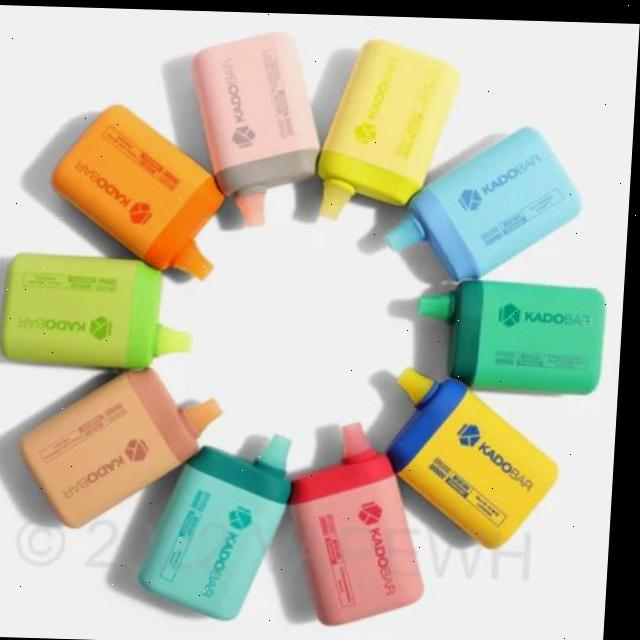vape: (22, 364, 231, 531), (386, 364, 569, 548), (48, 101, 232, 280), (385, 119, 587, 282), (291, 418, 439, 626), (143, 428, 300, 620), (183, 27, 328, 227), (317, 35, 462, 219), (3, 251, 199, 368), (418, 275, 611, 390)
